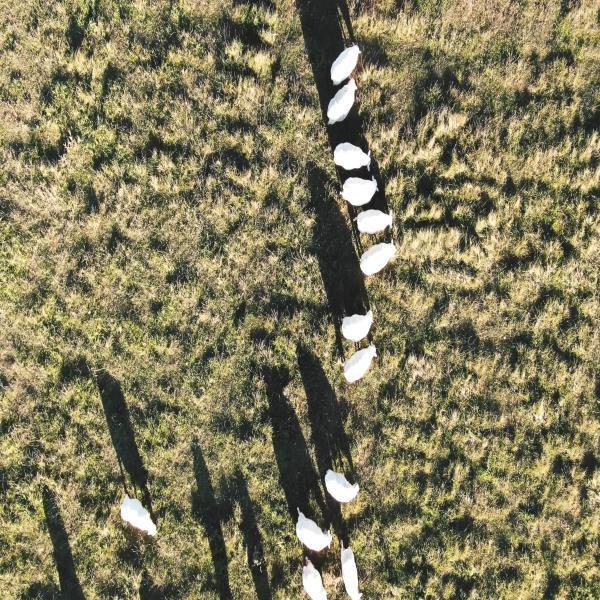sheep: (117, 486, 162, 545), (291, 502, 336, 558), (321, 76, 361, 130), (326, 35, 363, 91), (337, 530, 367, 599), (340, 340, 380, 391), (295, 553, 337, 599), (321, 461, 362, 508), (356, 236, 399, 280), (337, 171, 383, 211), (331, 134, 375, 175), (349, 205, 399, 239), (337, 305, 376, 346)
